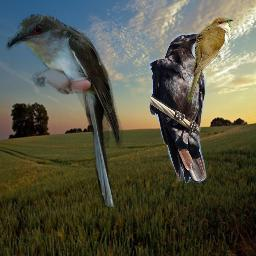Crow: (149, 31, 207, 183)
Cuckoo: (6, 14, 124, 207), (187, 17, 233, 103)
